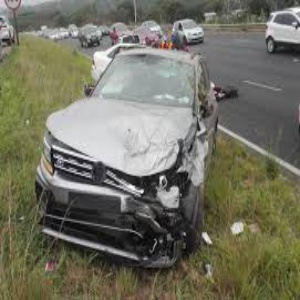bonnet: (94, 101, 186, 167)
